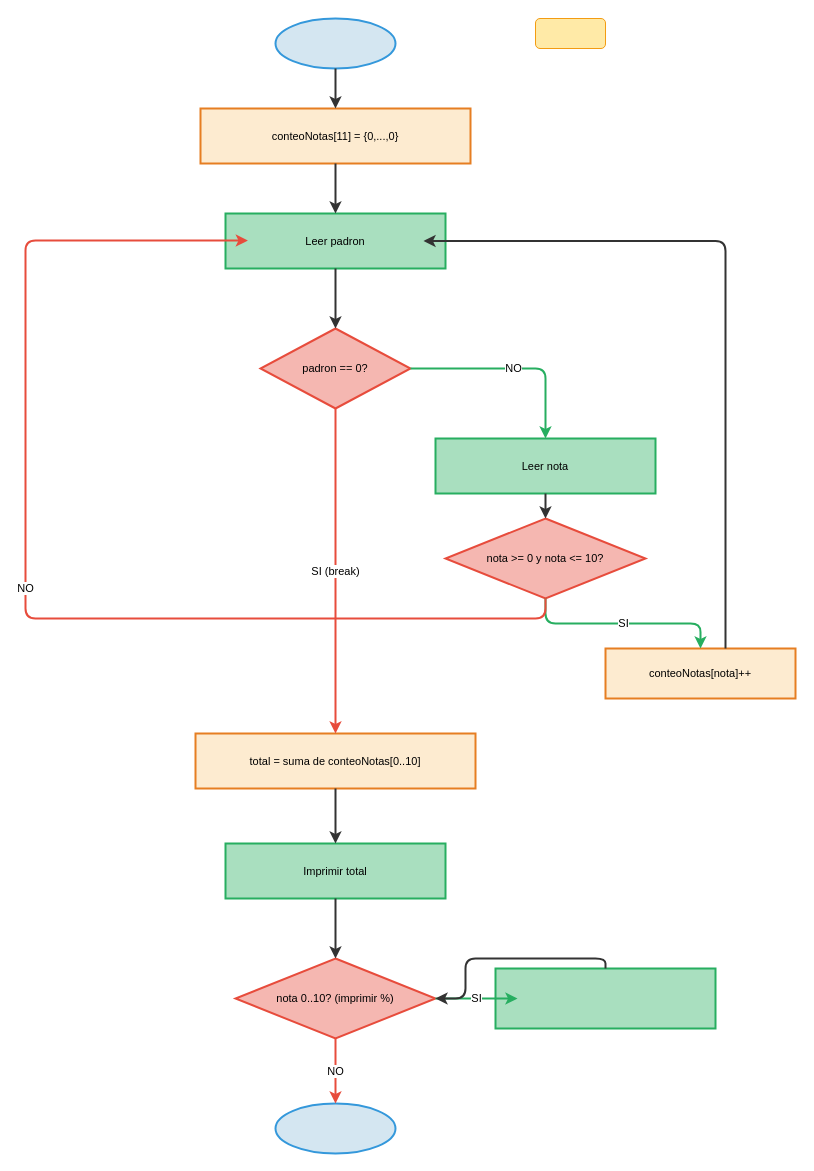
Some shapes in this 814 by 1171 pixel diagram are drawn without their labels. Each missing label, with the centre of its shape:
"FIN" belongs at point 335,1128.
"INICIO" belongs at point 335,43.
"O(n)" belongs at point 570,33.
"porcentaje = 100*conteoNotas[nota]/total Imprimir nota y porcentaje" belongs at point 605,998.
